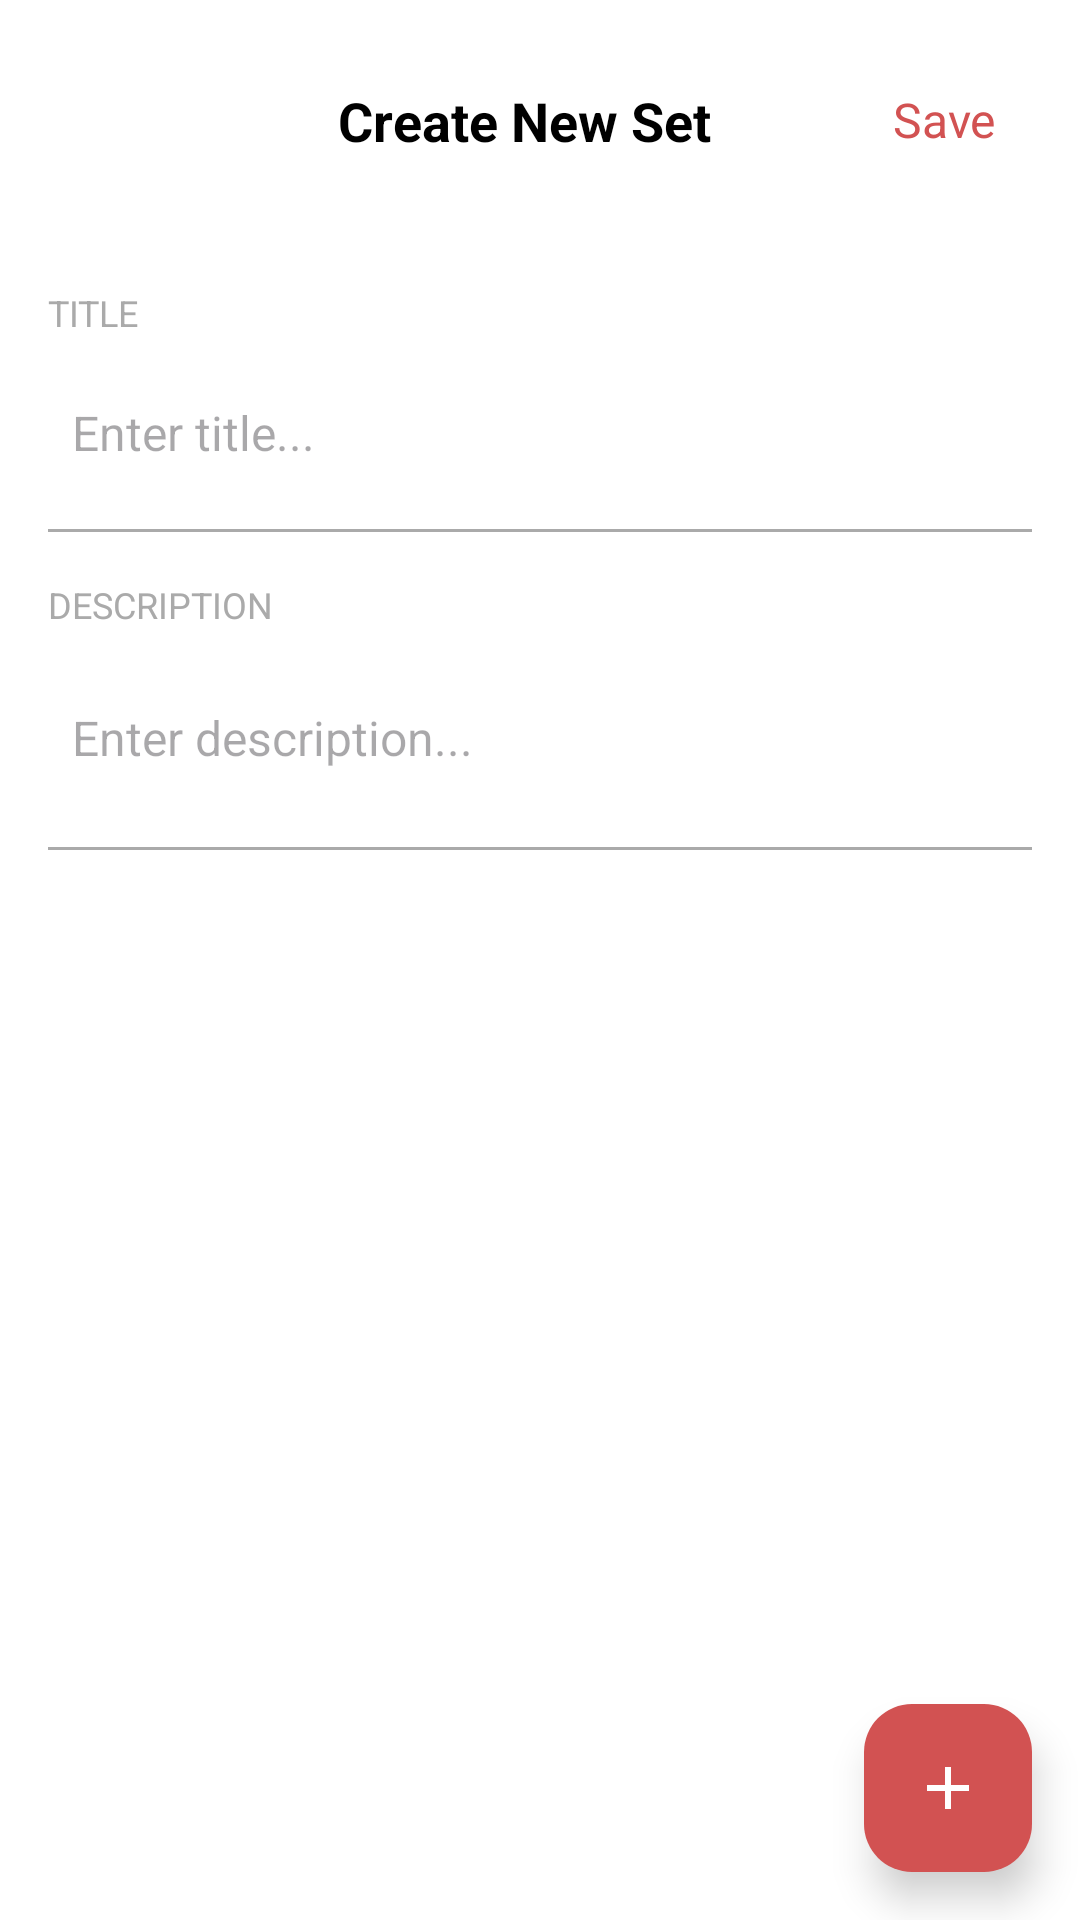

Named icons in this screenshot (1080*1920) and their centers, [x,y]:
Add new word: [948,1788]
